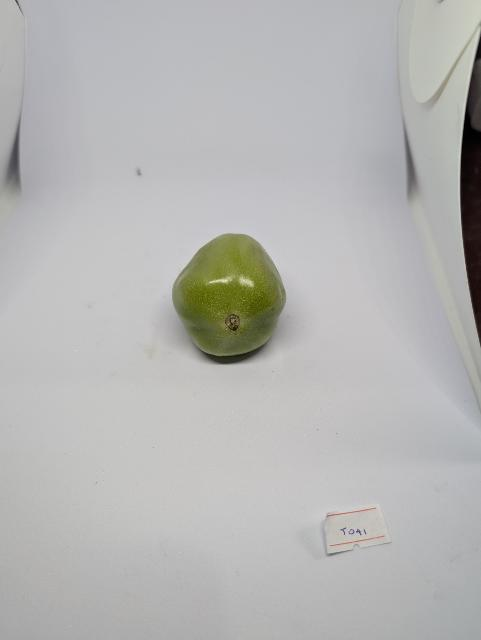green: (171, 233, 289, 358)
